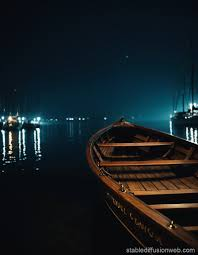boat: (85, 117, 198, 255), (171, 66, 198, 127)
